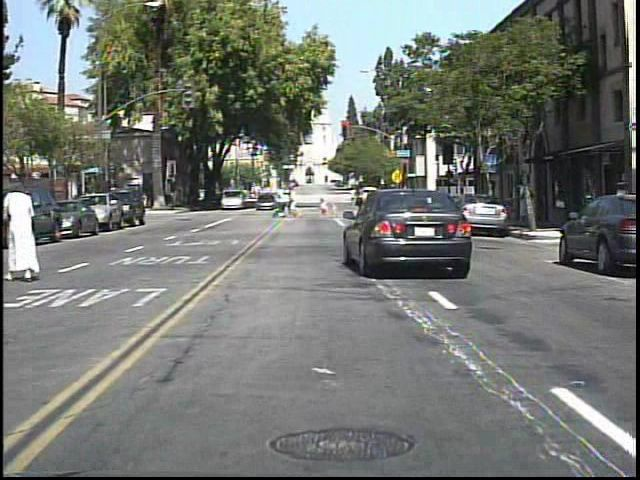person: (13, 183, 52, 283), (516, 175, 540, 229), (288, 183, 305, 221)
